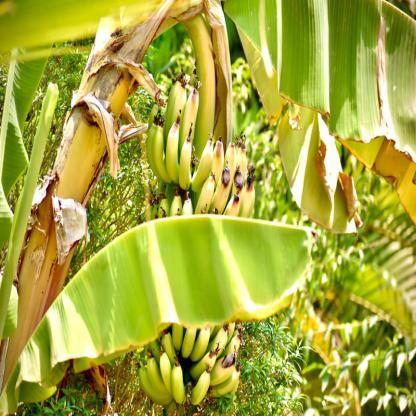banana: (134, 68, 207, 178)
